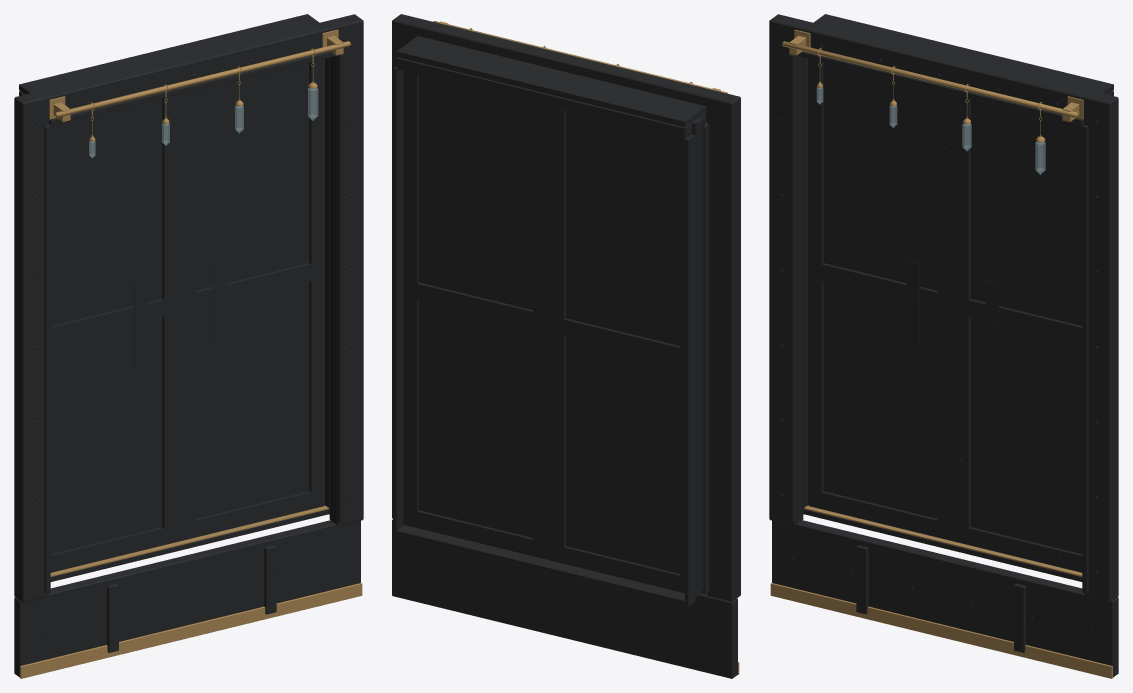
Rendered from crystal_shutter.glb.
3 views of the same model, side by side, from view 1: azimuth 30°, elevation 25°; view 2: azimuth 150°, elevation 25°; view 3: azimuth 330°, elevation 25° (orthographic).
Visible parts, largest first — view 1: crystal_shutter, shutter_leaf_r, shutter_leaf_l; view 2: crystal_shutter, shutter_leaf_l, shutter_leaf_r; view 3: crystal_shutter, shutter_leaf_l, shutter_leaf_r.
Part boxes in pixels (x1,y1,x2,y2): crystal_shutter: (14, 14, 363, 678); shutter_leaf_r: (180, 59, 324, 540); shutter_leaf_l: (48, 94, 179, 572); crystal_shutter: (392, 14, 740, 678); shutter_leaf_l: (548, 106, 704, 595); shutter_leaf_r: (403, 71, 548, 559); crystal_shutter: (769, 14, 1118, 678); shutter_leaf_l: (808, 59, 952, 540); shutter_leaf_r: (953, 94, 1084, 572).
Size of the model in its own units: 1.3 by 2.1 by 0.277.
